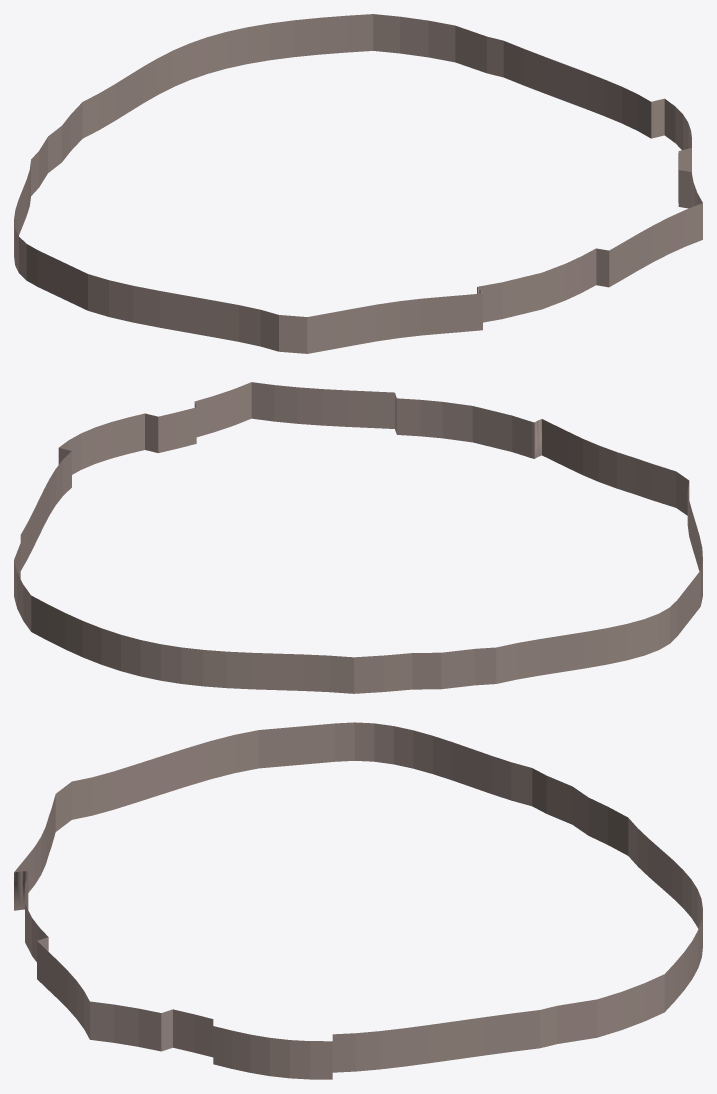
File: Msh_Collider_Diorama_1_Env.fbx
The picture shows the model from 3 angles, top to bottom: view 1: azimuth 30°, elevation 25°; view 2: azimuth 150°, elevation 25°; view 3: azimuth 270°, elevation 25°; orthographic projection. The views are drawn at different scales.
Visible parts, largest first — view 1: Msh_Collider_Diorama_1_Env; view 2: Msh_Collider_Diorama_1_Env; view 3: Msh_Collider_Diorama_1_Env.
Part boxes in pixels (x1,y1,x2,y2): Msh_Collider_Diorama_1_Env: (14, 14, 702, 353); Msh_Collider_Diorama_1_Env: (14, 382, 702, 693); Msh_Collider_Diorama_1_Env: (14, 722, 702, 1079).
Size of the model in its own units: 32.99 by 30.14 by 1.93.
